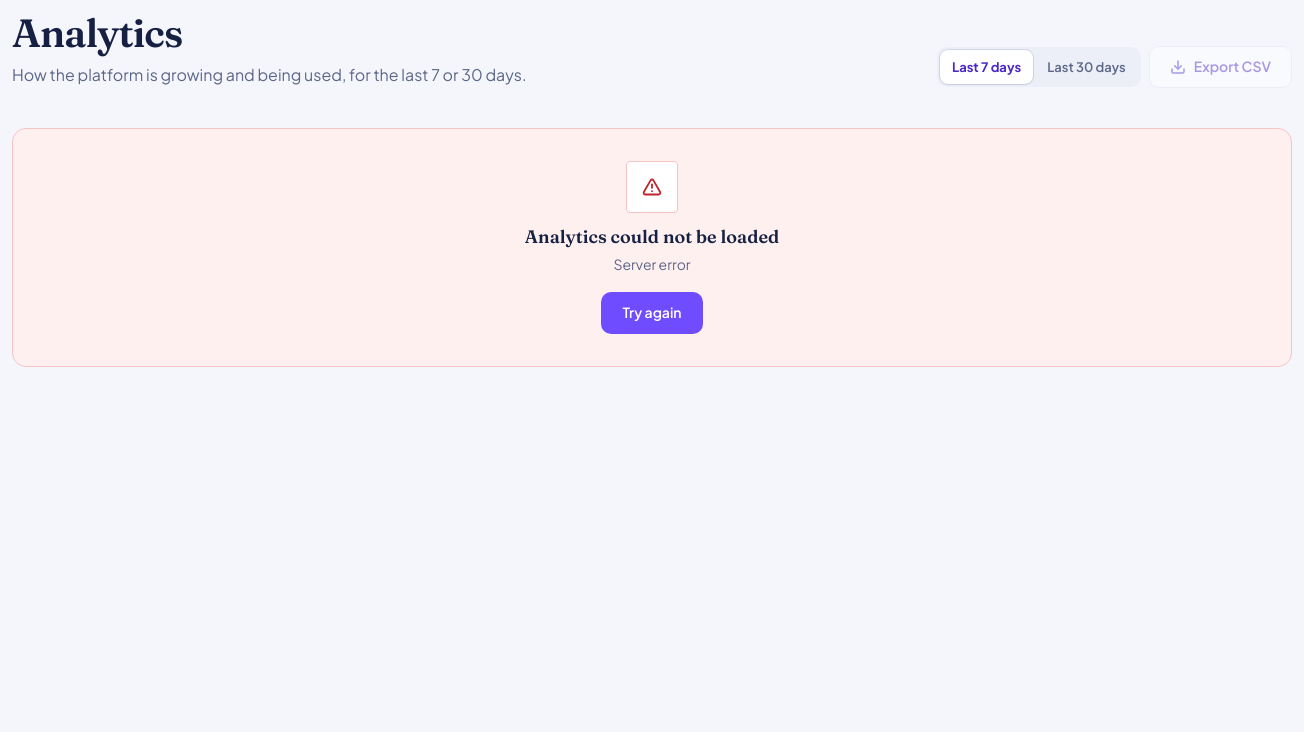
AdminAnalyticsPage › cannot export before the numbers are loaded and offers a retry
Expected: the button with test id "admin-insights-export" is disabled, [1149,46,1292,88]
Click the button "Try again": (652, 313) [602,292,703,334]
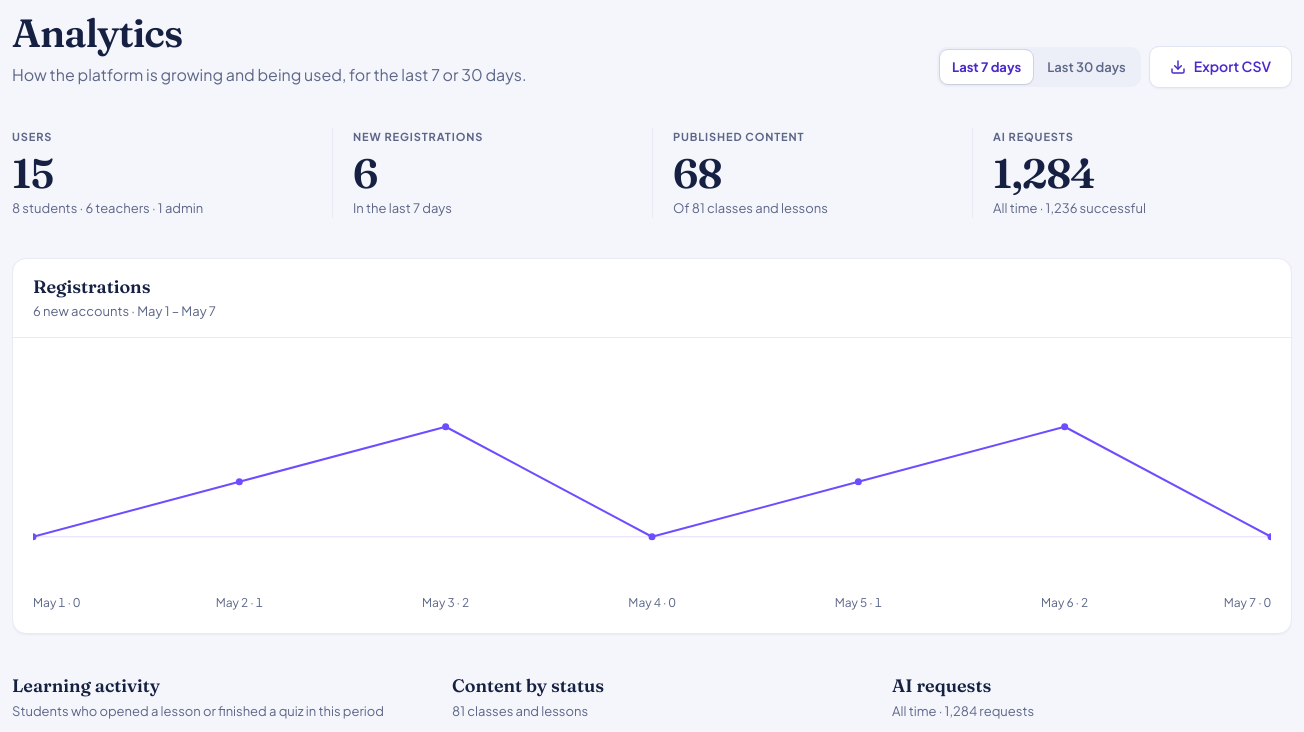
Now the number of elements with test id "admin-insights-kpi" is 4, box [12,130,203,216]; [332,128,652,218]; [652,128,972,218]; [972,128,1292,218]
